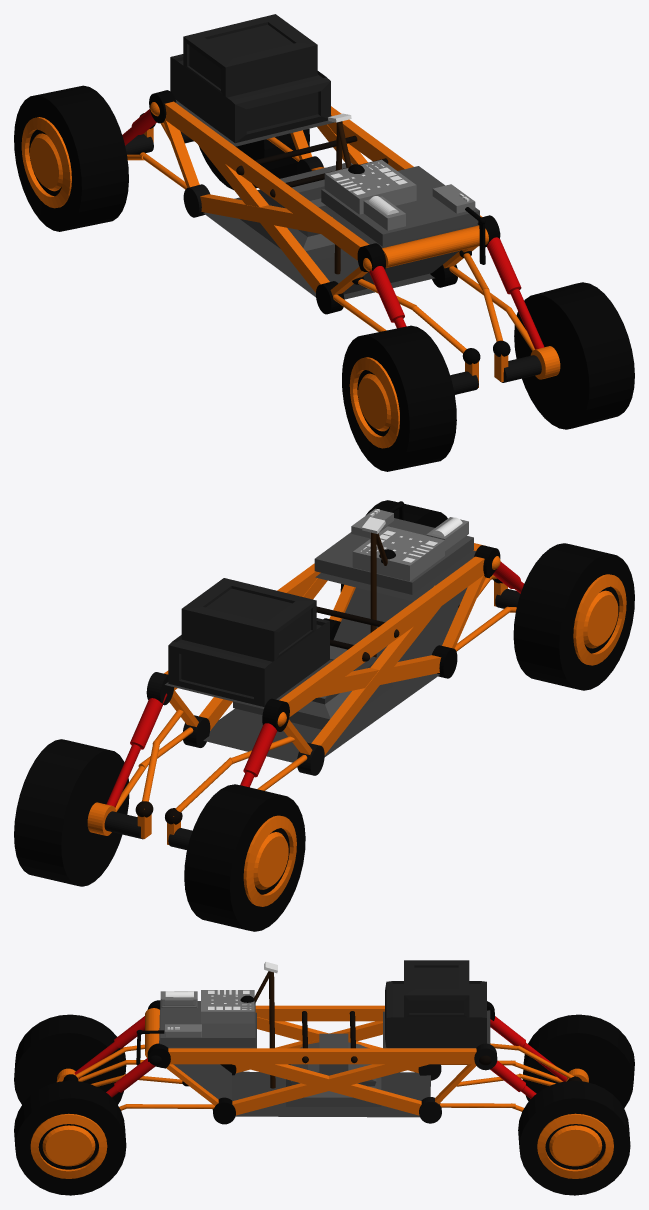
Rendered from Robotics_4.glb.
3 views of the same model, one above another, from view 1: azimuth 30°, elevation 25°; view 2: azimuth 150°, elevation 25°; view 3: azimuth 270°, elevation 25° (orthographic). The views are drawn at different scales.
Parts seen in each view (by area): view 1: Cube.014, Cylinder.016, Cylinder.027, Cylinder.017, Cube.007, Cube.015, Cylinder.025, Cylinder.015, Plane, Cube.016, Cube.005, Cube.048 (+13 smaller); view 2: Cube.014, Cylinder.026, Cylinder.027, Cylinder.017, Cube.007, Plane, Cube.015, Plane.001, Cylinder.025, Cylinder.015, Cube.016, Cube.006 (+15 smaller); view 3: Cube.014, Cylinder.026, Cylinder.016, Cylinder.027, Cylinder.017, Cube, Plane, Cylinder.024, Cylinder.014, Cube.015, Cube.001, Cube.002 (+22 smaller).
Part boxes in pixels (box(x1,y1,x2,y2)): Cube.014: box(170, 14, 330, 143); Cylinder.016: box(514, 282, 634, 429); Cylinder.027: box(14, 85, 128, 231); Cylinder.017: box(342, 325, 456, 471); Cube.007: box(165, 101, 369, 260); Cube.015: box(321, 166, 479, 246); Cylinder.025: box(21, 117, 71, 208); Cylinder.015: box(349, 357, 399, 448); Plane: box(203, 197, 434, 299); Cube.016: box(324, 159, 416, 214); Cube.005: box(197, 143, 329, 292); Cube.048: box(240, 163, 369, 261); Cube.014: box(168, 578, 329, 706); Cylinder.026: box(14, 739, 129, 886); Cylinder.027: box(184, 784, 305, 931); Cylinder.017: box(513, 543, 634, 690); Cube.007: box(279, 556, 484, 717); Plane: box(203, 655, 439, 762); Cube.015: box(314, 518, 473, 594); Plane.001: box(333, 587, 467, 660); Cylinder.025: box(243, 815, 296, 906); Cylinder.015: box(573, 574, 626, 665); Cube.016: box(352, 526, 444, 581); Cube.006: box(311, 585, 440, 755); Cube.014: box(385, 960, 486, 1047); Cylinder.026: box(518, 1080, 630, 1195); Cylinder.016: box(14, 1080, 126, 1195); Cylinder.027: box(522, 1014, 634, 1108); Cylinder.017: box(14, 1014, 126, 1104); Cube: box(168, 1048, 476, 1064); Plane: box(232, 1071, 430, 1117); Cylinder.024: box(537, 1113, 613, 1178); Cylinder.014: box(30, 1113, 107, 1178); Cube.015: box(160, 1001, 255, 1047); Cube.001: box(232, 1064, 428, 1115); Cube.002: box(232, 1064, 421, 1115).
Bounding box in the file's own units: 2.3 × 2.22 × 6.84.
